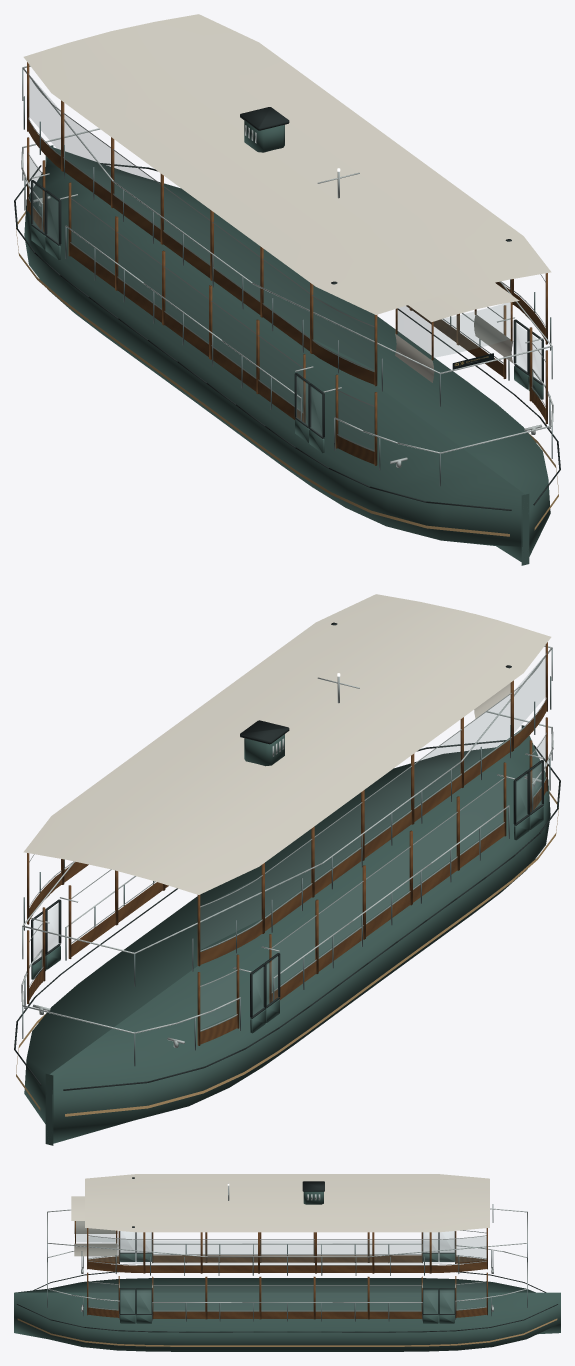
File: lacuna-f26-lod2.glb
The picture shows the model from 3 angles, top to bottom: view 1: azimuth 30°, elevation 25°; view 2: azimuth 150°, elevation 25°; view 3: azimuth 270°, elevation 25°; orthographic projection. The views are drawn at different scales.
Parts seen in each view (by area): view 1: LOD2-ferry-detail-2-paintFar-batch, LOD2-ferry-detail-2-pearl-batch, LOD2-ferry-detail-2-glass-batch, LOD2-ferry-detail-2-wood-batch, LOD2-ferry-detail-2-metal-batch, LOD2-ferry-detail-2-dark-batch, LOD2-ferry-detail-2-steel-batch, LOD2-ferry-detail-2-livery-batch; view 2: LOD2-ferry-detail-2-paintFar-batch, LOD2-ferry-detail-2-pearl-batch, LOD2-ferry-detail-2-glass-batch, LOD2-ferry-detail-2-wood-batch, LOD2-ferry-detail-2-metal-batch, LOD2-ferry-detail-2-dark-batch, LOD2-ferry-detail-2-steel-batch, LOD2-ferry-detail-2-livery-batch; view 3: LOD2-ferry-detail-2-paintFar-batch, LOD2-ferry-detail-2-pearl-batch, LOD2-ferry-detail-2-glass-batch, LOD2-ferry-detail-2-wood-batch, LOD2-ferry-detail-2-metal-batch, LOD2-ferry-detail-2-dark-batch, LOD2-ferry-detail-2-livery-batch, LOD2-ferry-detail-2-steel-batch, LOD2-ferry-door-0-starboard-leaf--1-glass-batch, LOD2-ferry-door-0-starboard-leaf-1-glass-batch, LOD2-ferry-door-1-starboard-leaf--1-glass-batch, LOD2-ferry-door-1-starboard-leaf-1-glass-batch (+2 smaller).
Part boxes in pixels (box(x1,y1,x2,y2)): LOD2-ferry-detail-2-paintFar-batch: box(24, 121, 550, 565); LOD2-ferry-detail-2-pearl-batch: box(23, 14, 551, 382); LOD2-ferry-detail-2-glass-batch: box(29, 76, 509, 448); LOD2-ferry-detail-2-wood-batch: box(27, 62, 547, 465); LOD2-ferry-detail-2-metal-batch: box(21, 65, 553, 467); LOD2-ferry-detail-2-dark-batch: box(14, 107, 560, 510); LOD2-ferry-detail-2-steel-batch: box(22, 69, 552, 486); LOD2-ferry-detail-2-livery-batch: box(16, 211, 558, 536); LOD2-ferry-detail-2-paintFar-batch: box(24, 725, 550, 1145); LOD2-ferry-detail-2-pearl-batch: box(23, 594, 551, 894); LOD2-ferry-detail-2-glass-batch: box(200, 656, 545, 1028); LOD2-ferry-detail-2-wood-batch: box(27, 642, 547, 1045); LOD2-ferry-detail-2-metal-batch: box(21, 645, 553, 1047); LOD2-ferry-detail-2-dark-batch: box(14, 622, 560, 1090); LOD2-ferry-detail-2-steel-batch: box(22, 649, 552, 1066); LOD2-ferry-detail-2-livery-batch: box(16, 791, 558, 1116); LOD2-ferry-detail-2-paintFar-batch: box(14, 1191, 560, 1351); LOD2-ferry-detail-2-pearl-batch: box(71, 1174, 489, 1256); LOD2-ferry-detail-2-glass-batch: box(76, 1221, 486, 1309); LOD2-ferry-detail-2-wood-batch: box(75, 1221, 487, 1319); LOD2-ferry-detail-2-metal-batch: box(47, 1183, 527, 1311); LOD2-ferry-detail-2-dark-batch: box(17, 1177, 557, 1332); LOD2-ferry-detail-2-livery-batch: box(17, 1318, 557, 1346); LOD2-ferry-detail-2-steel-batch: box(47, 1204, 527, 1321); LOD2-ferry-door-0-starboard-leaf--1-glass-batch: box(440, 1290, 453, 1313); LOD2-ferry-door-0-starboard-leaf-1-glass-batch: box(424, 1290, 437, 1313); LOD2-ferry-door-1-starboard-leaf--1-glass-batch: box(137, 1290, 150, 1313); LOD2-ferry-door-1-starboard-leaf-1-glass-batch: box(121, 1290, 134, 1313).
Size of the model in its own units: 6.99 by 7.97 by 26.
12 materials, 2 textured.
